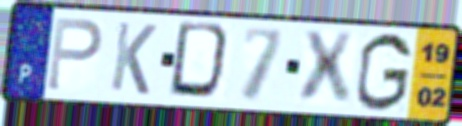7: (240, 26, 284, 104)
D: (166, 19, 237, 104)
G: (353, 30, 415, 114)
K: (108, 19, 159, 98)
P: (44, 15, 105, 93)
X: (298, 29, 357, 108)
